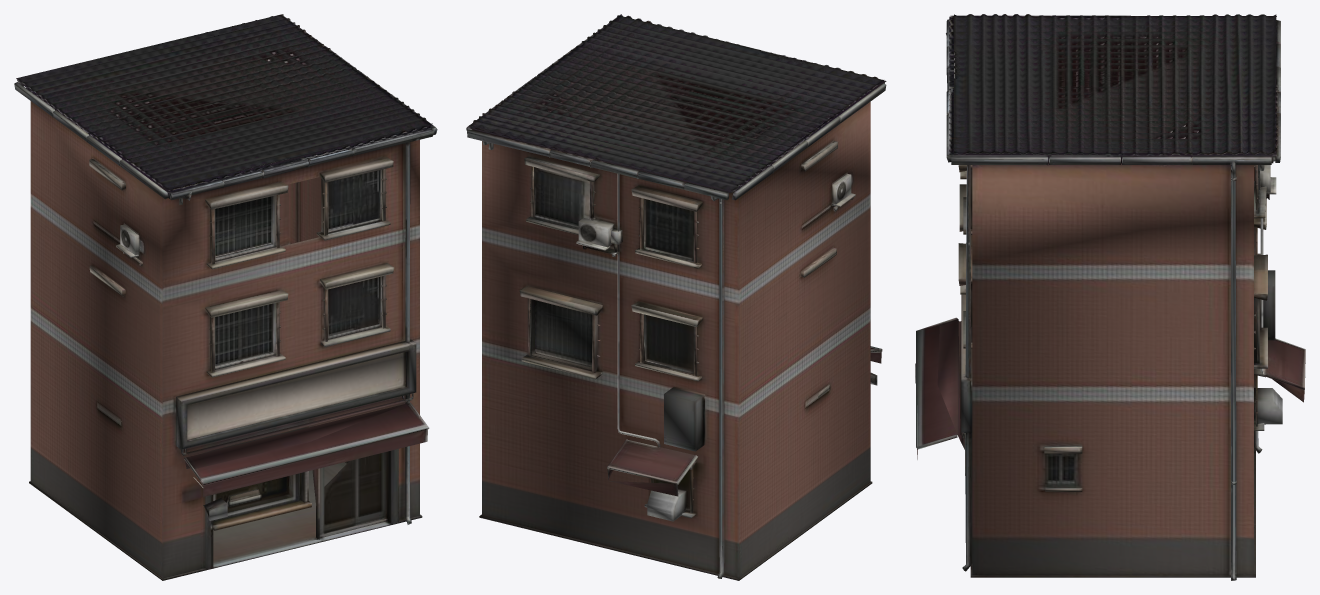
Rendered from facade-brick.glb.
3 renders of one model, left to right at view 1: azimuth 30°, elevation 25°; view 2: azimuth 150°, elevation 25°; view 3: azimuth 270°, elevation 25°, orthographic. The views are drawn at different scales.
Parts seen in each view (by area): view 1: tripo_node_6de5ca69-3203-4dca-a076-9cc0cb67e8dd; view 2: tripo_node_6de5ca69-3203-4dca-a076-9cc0cb67e8dd; view 3: tripo_node_6de5ca69-3203-4dca-a076-9cc0cb67e8dd.
Boxes of the visible parts, x1,y1,x2,y2 form: tripo_node_6de5ca69-3203-4dca-a076-9cc0cb67e8dd: [14, 14, 437, 580]; tripo_node_6de5ca69-3203-4dca-a076-9cc0cb67e8dd: [466, 14, 886, 580]; tripo_node_6de5ca69-3203-4dca-a076-9cc0cb67e8dd: [915, 14, 1305, 580].
Bounding box in the file's own units: 0.7129 × 0.998 × 0.8262.
Materials: 1 (1 with a texture image).
